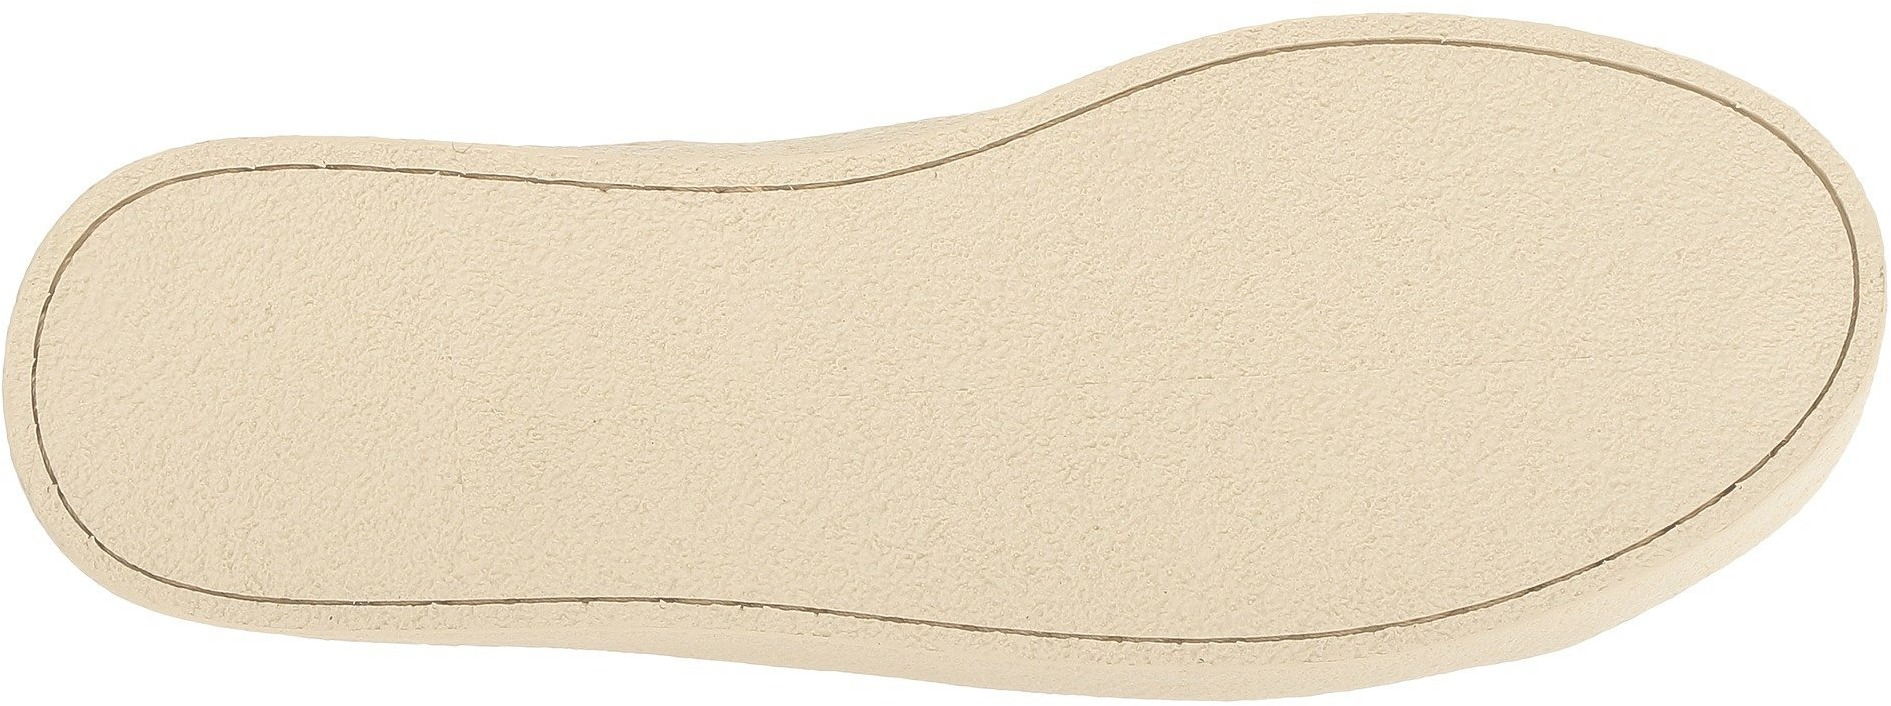other: (381, 215, 738, 555), (1336, 56, 1639, 377), (71, 243, 375, 552), (754, 203, 1040, 498), (1054, 129, 1331, 412), (1054, 415, 1258, 642), (1340, 384, 1574, 579), (1646, 191, 1838, 383), (1580, 390, 1702, 513)
